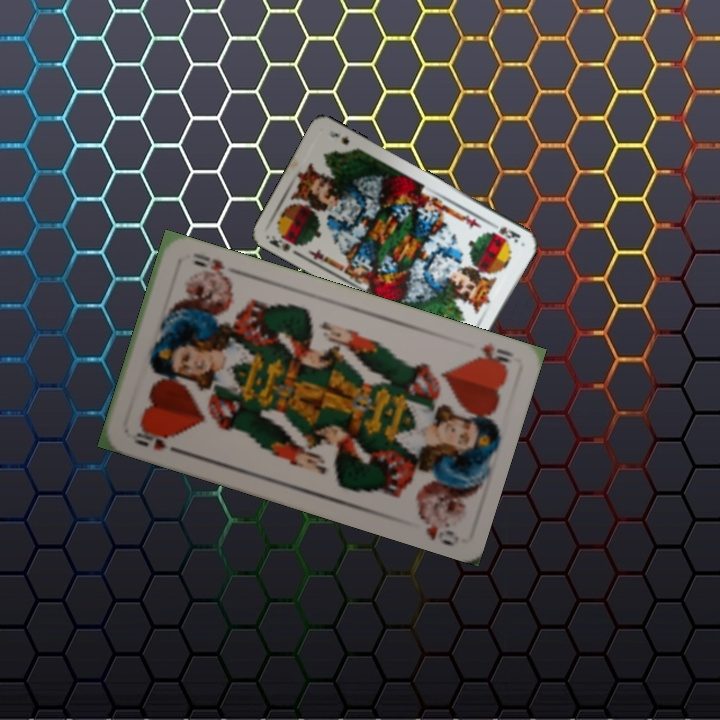HO: (130, 423, 184, 456), (469, 339, 516, 372)
SK: (265, 231, 293, 254), (495, 223, 523, 245)
